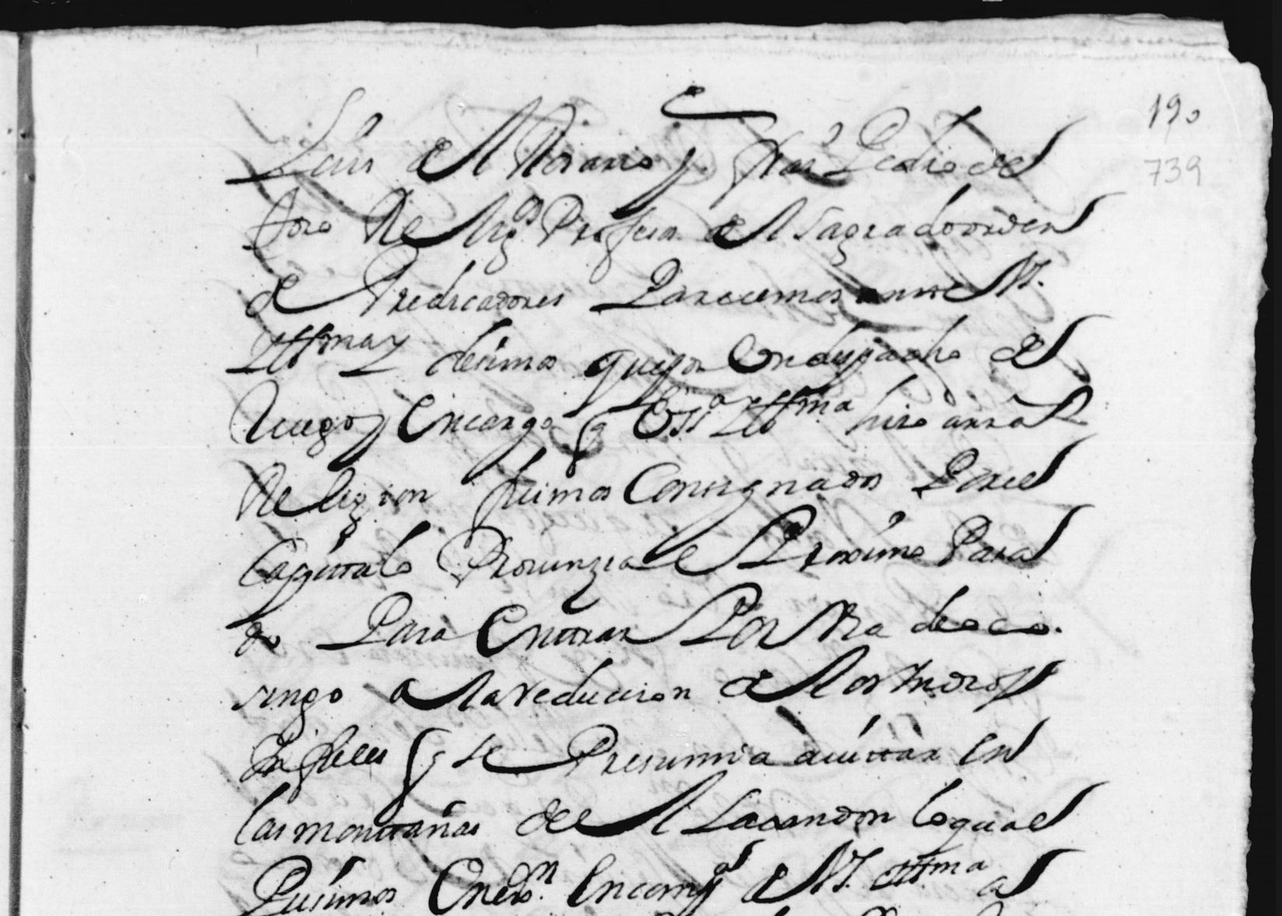lacandon: (680, 788, 895, 834)
